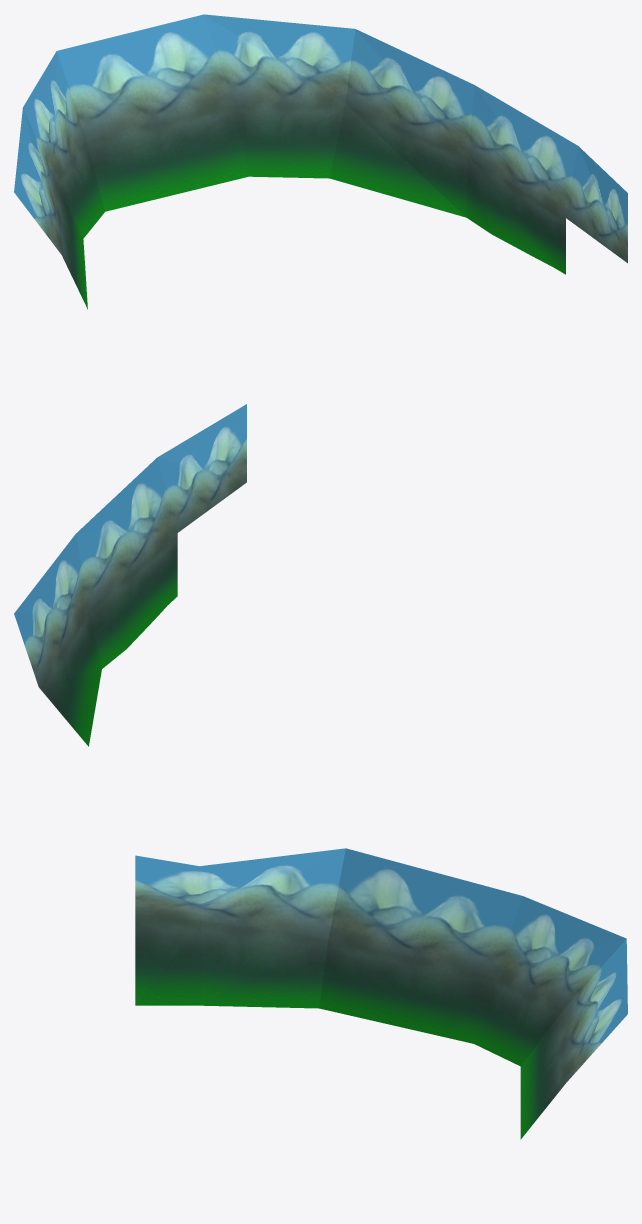
The model's file is mounts.glb.
The picture shows the model from 3 angles, top to bottom: view 1: azimuth 30°, elevation 25°; view 2: azimuth 150°, elevation 25°; view 3: azimuth 270°, elevation 25°; orthographic projection. The views are drawn at different scales.
Visible parts, largest first — view 1: mounts; view 2: mounts; view 3: mounts.
Part boxes in pixels (<box>): mounts: <box>14,14,627,309</box>; mounts: <box>14,404,246,746</box>; mounts: <box>135,848,627,1139</box>.
Size of the model in its own units: 15232 by 4436 by 16441.
1 material, 1 textured.
